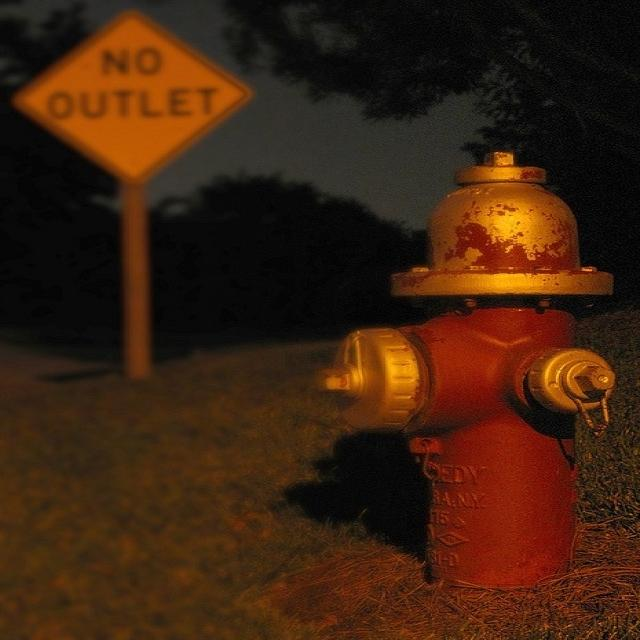fire_hydrant: (342, 124, 625, 577)
